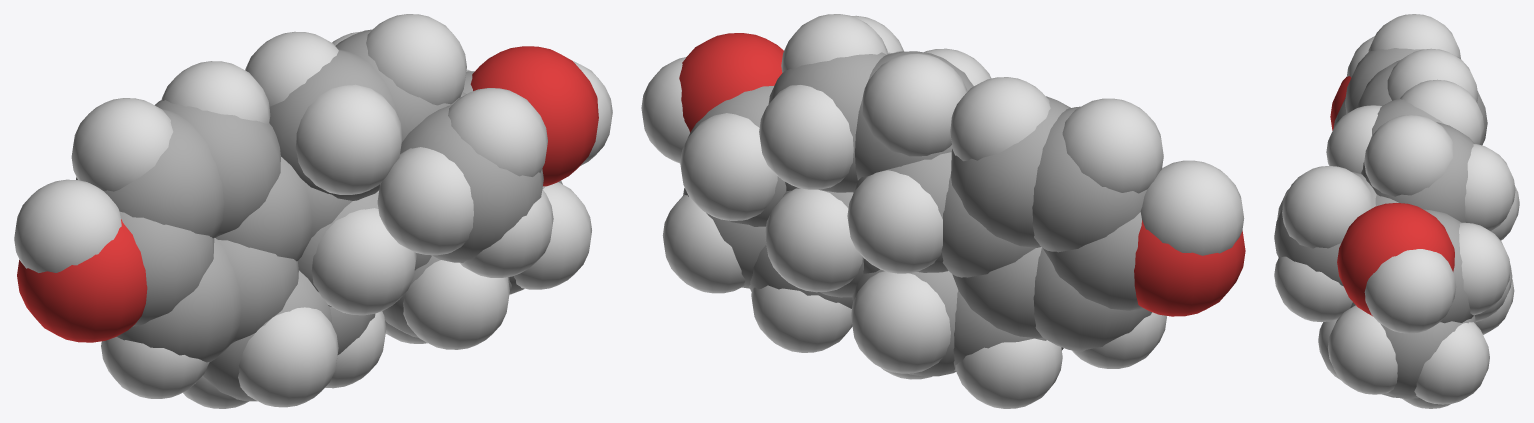
File: estradiol-cpk.glb
3 renders of one model, left to right at view 1: azimuth 30°, elevation 25°; view 2: azimuth 150°, elevation 25°; view 3: azimuth 270°, elevation 25°, orthographic. The views are drawn at different scales.
Visible parts, largest first — view 1: estradiol-cpk; view 2: estradiol-cpk; view 3: estradiol-cpk.
Part boxes in pixels (x1,y1,x2,y2): estradiol-cpk: [14, 14, 612, 408]; estradiol-cpk: [641, 14, 1245, 408]; estradiol-cpk: [1274, 14, 1519, 408].
Bounding box in the file's own units: 14.58 × 8.1 × 6.26.
